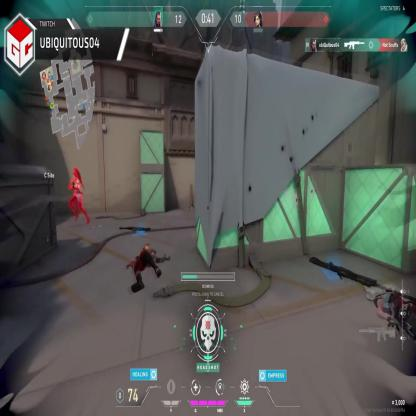enemy: (69, 166, 90, 224)
enemy_head: (72, 170, 78, 182)
